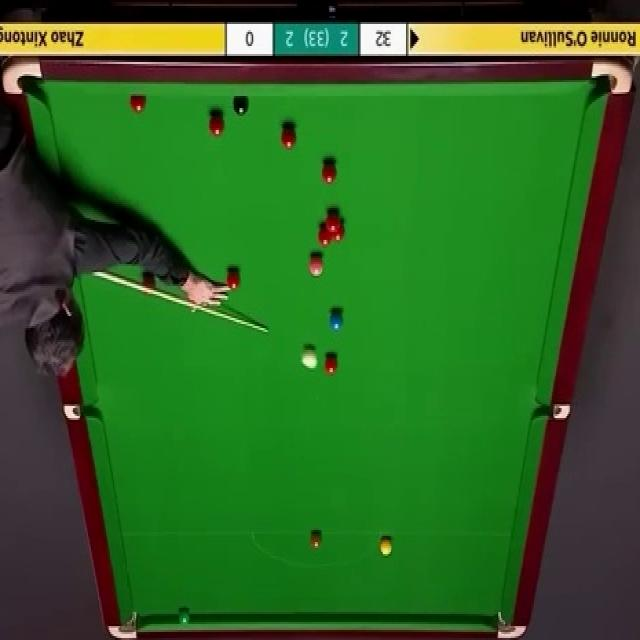black-ball: (232, 95, 248, 117)
brown-ball: (310, 532, 322, 552)
green-ball: (180, 610, 190, 628)
pink-ball: (308, 253, 323, 279)
red-ball: (320, 160, 337, 189), (280, 123, 296, 151), (208, 110, 225, 136), (226, 266, 241, 290), (142, 271, 156, 296), (129, 97, 148, 115), (332, 218, 346, 242), (324, 355, 340, 376), (318, 222, 331, 246), (324, 210, 340, 229)
white-ball: (302, 346, 316, 369)
yellow-ball: (381, 538, 393, 554)
